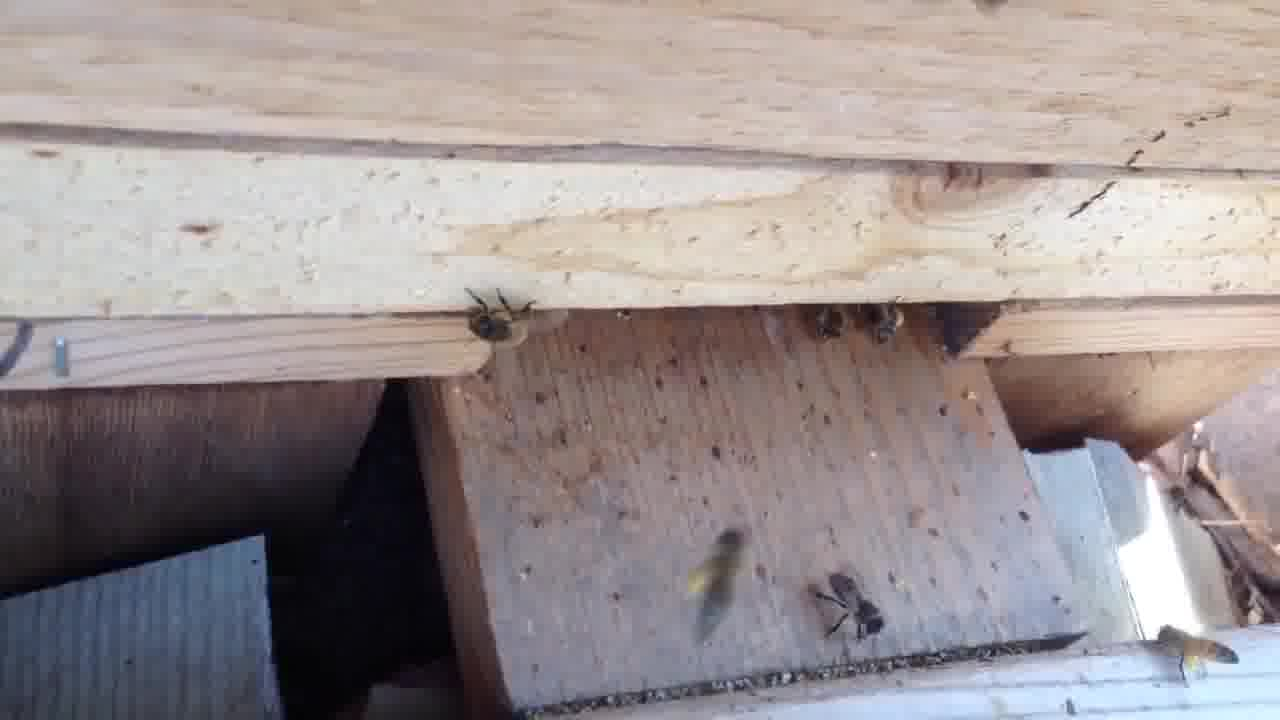pollen: (691, 521, 745, 637), (1155, 624, 1241, 682)
